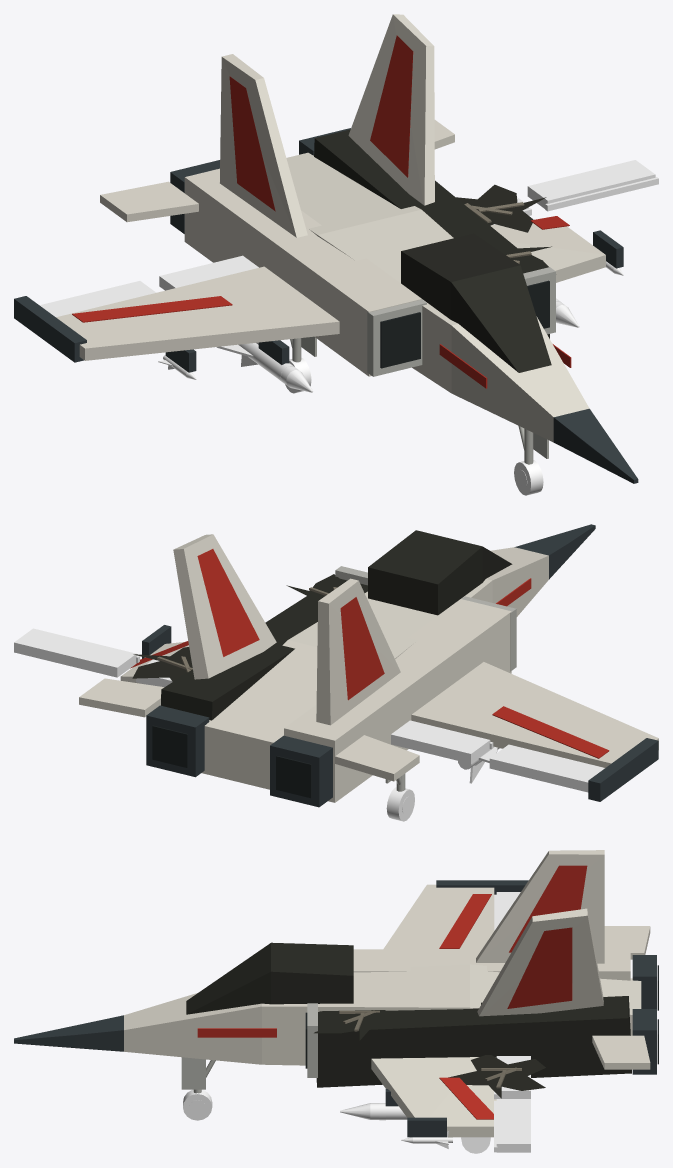
3 renders of one model, top to bottom at view 1: azimuth 30°, elevation 25°; view 2: azimuth 150°, elevation 25°; view 3: azimuth 270°, elevation 25°, orthographic. The views are drawn at different scales.
Parts seen in each view (by area): view 1: jet-a-damaged-fleet-armor, jet-a-damaged-fleet-damage-charred, jet-a-damaged-fleet-red, jet-a-damaged-fleet-machine, aileron-right-painted, jet-a-damaged-fleet-rubber, elevator-left-fleet-armor, jet-a-damaged-fleet-edge, aileron-left-painted, flap-left-painted, store-left-large-painted, gear-wheel-nose-0-0-painted (+1 smaller); view 2: jet-a-damaged-fleet-armor, jet-a-damaged-fleet-damage-charred, jet-a-damaged-fleet-machine, jet-a-damaged-fleet-red, aileron-right-painted, aileron-left-painted, flap-left-painted, jet-a-damaged-fleet-rubber, elevator-left-fleet-armor, elevator-right-fleet-armor, jet-a-damaged-fleet-edge, gear-wheel-left-0-0-painted (+1 smaller); view 3: jet-a-damaged-fleet-armor, jet-a-damaged-fleet-damage-charred, jet-a-damaged-fleet-red, jet-a-damaged-fleet-machine, aileron-right-painted, elevator-right-fleet-armor, elevator-left-fleet-armor, landing-gear-nose-fleet-edge, store-right-large-painted, jet-a-damaged-fleet-edge, gear-wheel-nose-0-0-painted, jet-a-damaged-fleet-damage-metal (+2 smaller).
Boxes of the visible parts, left/top/right/bottom form: jet-a-damaged-fleet-armor: left=56, top=14, right=605, bottom=442; jet-a-damaged-fleet-damage-charred: left=314, top=129, right=551, bottom=372; jet-a-damaged-fleet-red: left=72, top=35, right=571, bottom=388; jet-a-damaged-fleet-machine: left=14, top=128, right=638, bottom=483; aileron-right-painted: left=527, top=160, right=658, bottom=211; jet-a-damaged-fleet-rubber: left=380, top=280, right=549, bottom=368; elevator-left-fleet-armor: left=100, top=181, right=198, bottom=222; jet-a-damaged-fleet-edge: left=367, top=267, right=555, bottom=376; aileron-left-painted: left=40, top=281, right=156, bottom=317; flap-left-painted: left=159, top=255, right=258, bottom=290; store-left-large-painted: left=216, top=342, right=312, bottom=392; gear-wheel-nose-0-0-painted: left=514, top=460, right=543, bottom=495; jet-a-damaged-fleet-armor: left=120, top=534, right=658, bottom=802; jet-a-damaged-fleet-damage-charred: left=132, top=530, right=512, bottom=720; jet-a-damaged-fleet-machine: left=142, top=524, right=658, bottom=807; jet-a-damaged-fleet-red: left=130, top=549, right=609, bottom=758; aileron-right-painted: left=14, top=628, right=139, bottom=677; aileron-left-painted: left=489, top=744, right=604, bottom=792; flap-left-painted: left=391, top=720, right=493, bottom=763; jet-a-damaged-fleet-rubber: left=152, top=725, right=311, bottom=798; elevator-left-fleet-armor: left=335, top=735, right=419, bottom=781; elevator-right-fleet-armor: left=79, top=678, right=163, bottom=717; jet-a-damaged-fleet-edge: left=335, top=566, right=516, bottom=671; gear-wheel-left-0-0-painted: left=386, top=787, right=414, bottom=821; jet-a-damaged-fleet-armor: left=124, top=850, right=641, bottom=1137; jet-a-damaged-fleet-damage-charred: left=186, top=942, right=631, bottom=1098; jet-a-damaged-fleet-red: left=197, top=865, right=587, bottom=1119; jet-a-damaged-fleet-machine: left=14, top=880, right=656, bottom=1137; aileron-right-painted: left=494, top=1099, right=530, bottom=1152; elevator-right-fleet-armor: left=592, top=1035, right=650, bottom=1069; elevator-left-fleet-armor: left=604, top=926, right=650, bottom=959; landing-gear-nose-fleet-edge: left=181, top=1057, right=215, bottom=1093; store-right-large-painted: left=340, top=1103, right=407, bottom=1120; jet-a-damaged-fleet-edge: left=307, top=1003, right=317, bottom=1077; gear-wheel-nose-0-0-painted: left=183, top=1089, right=212, bottom=1120; jet-a-damaged-fleet-damage-metal: left=339, top=1010, right=521, bottom=1088.
Size of the model in its own units: 58.81 by 26.34 by 62.11.
